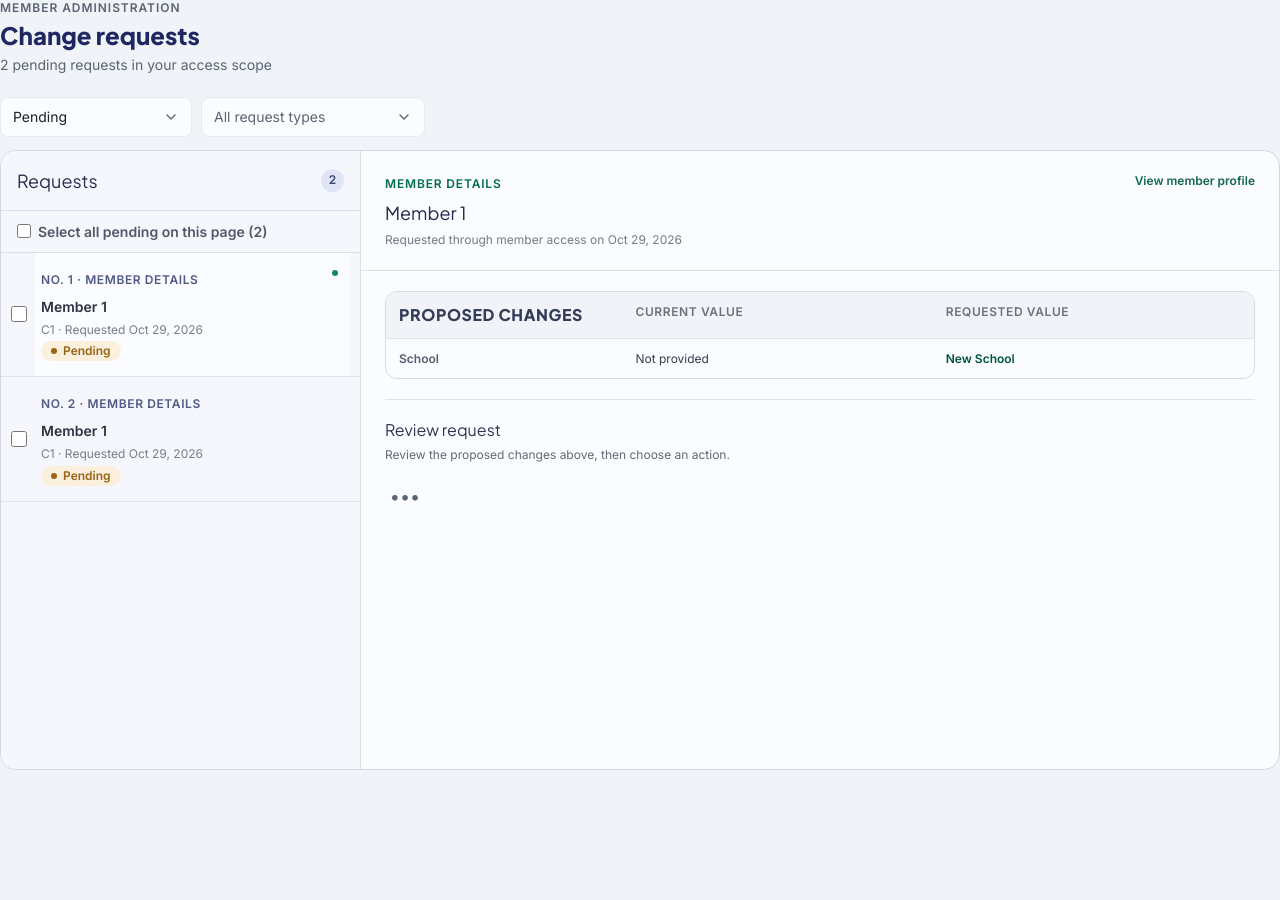
it: reports partial bulk failures without losing the result after list refresh
Expected: the button named "Actions for request 42" is shown, [385, 477, 425, 517]
Click the checkbox labelled "Select all pending on this page (2)" at (24, 231), box [17, 224, 31, 238]
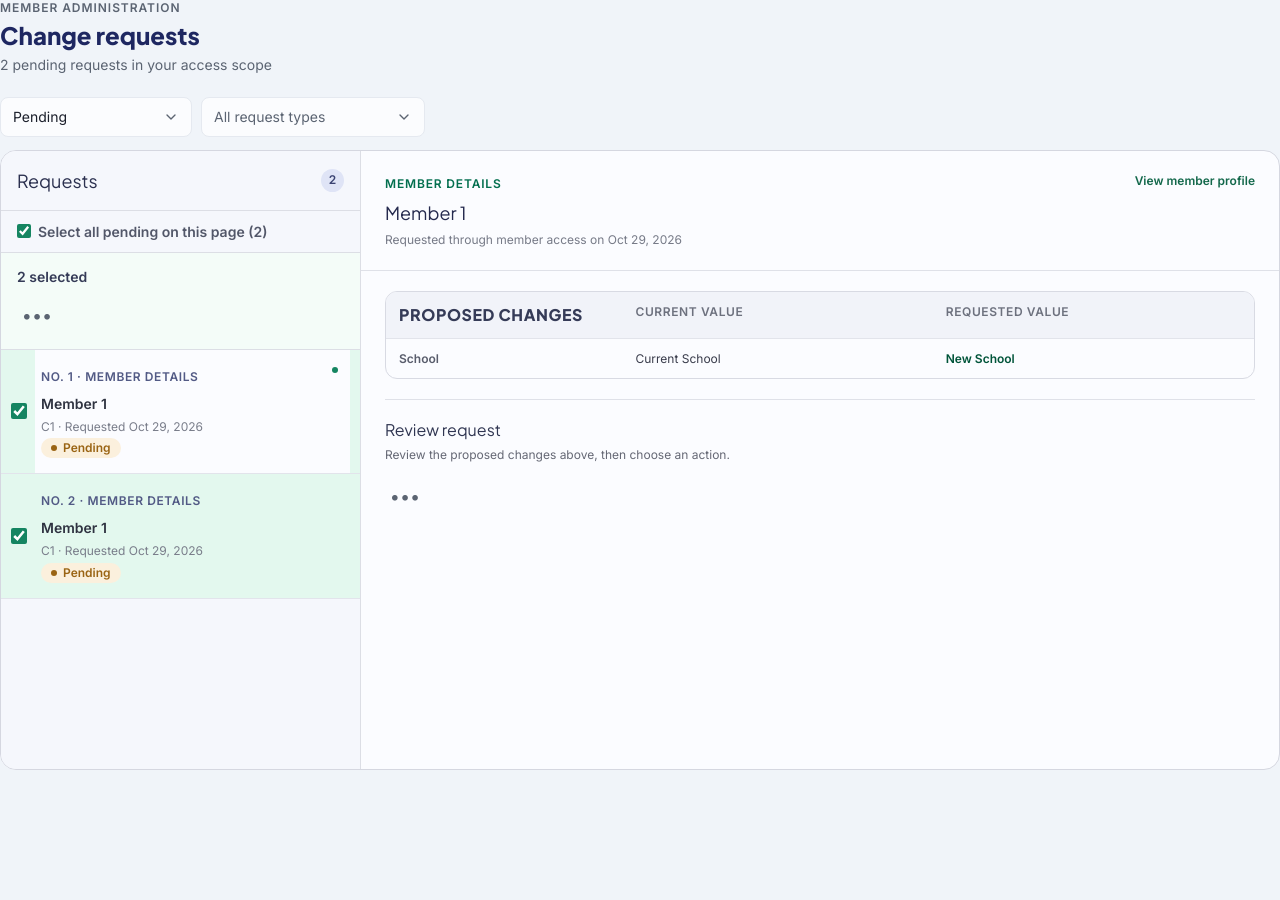
Click the button named "Actions for selected requests" at (37, 316), box [17, 296, 57, 336]
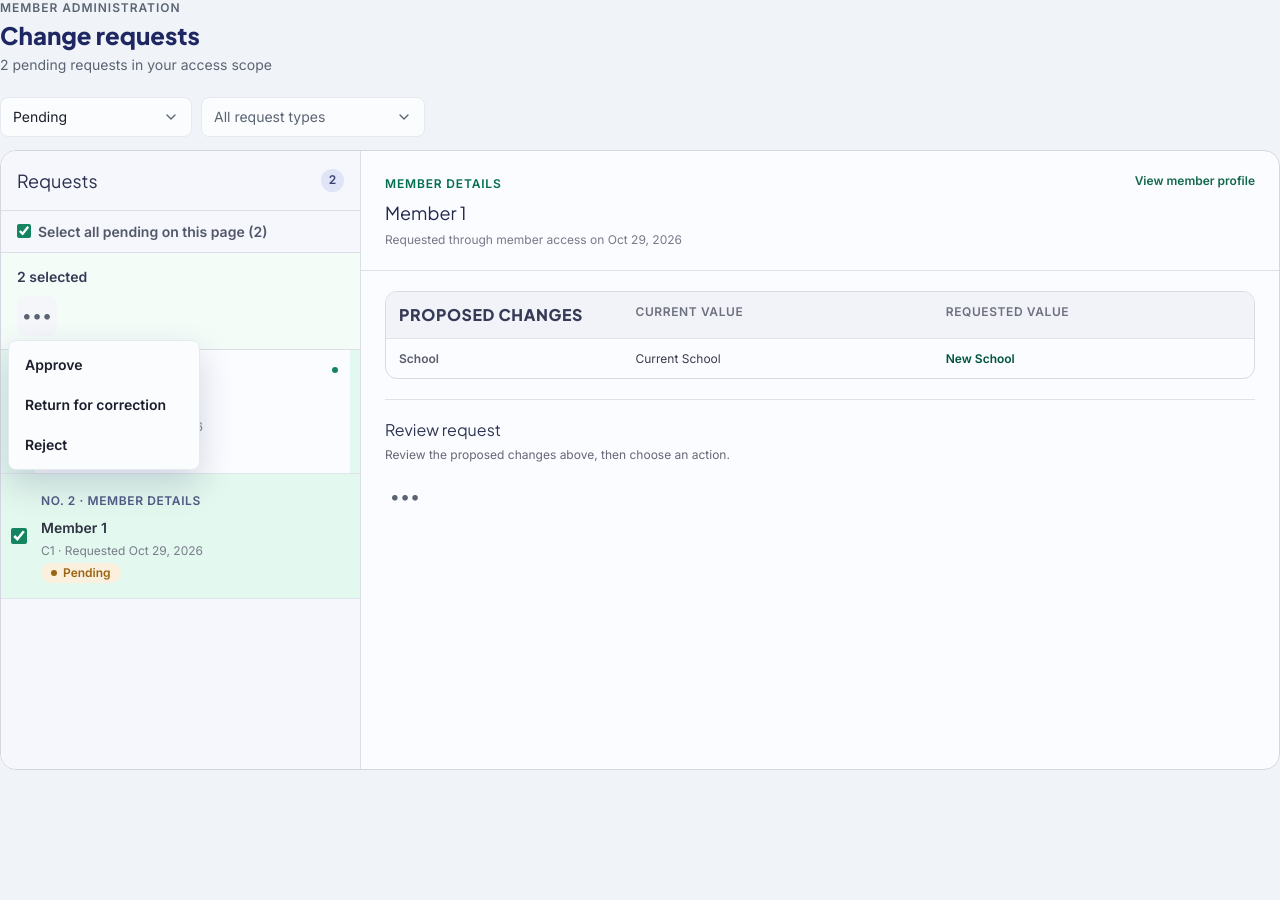
Click the menu item "Approve" at (104, 365), box [13, 345, 195, 385]
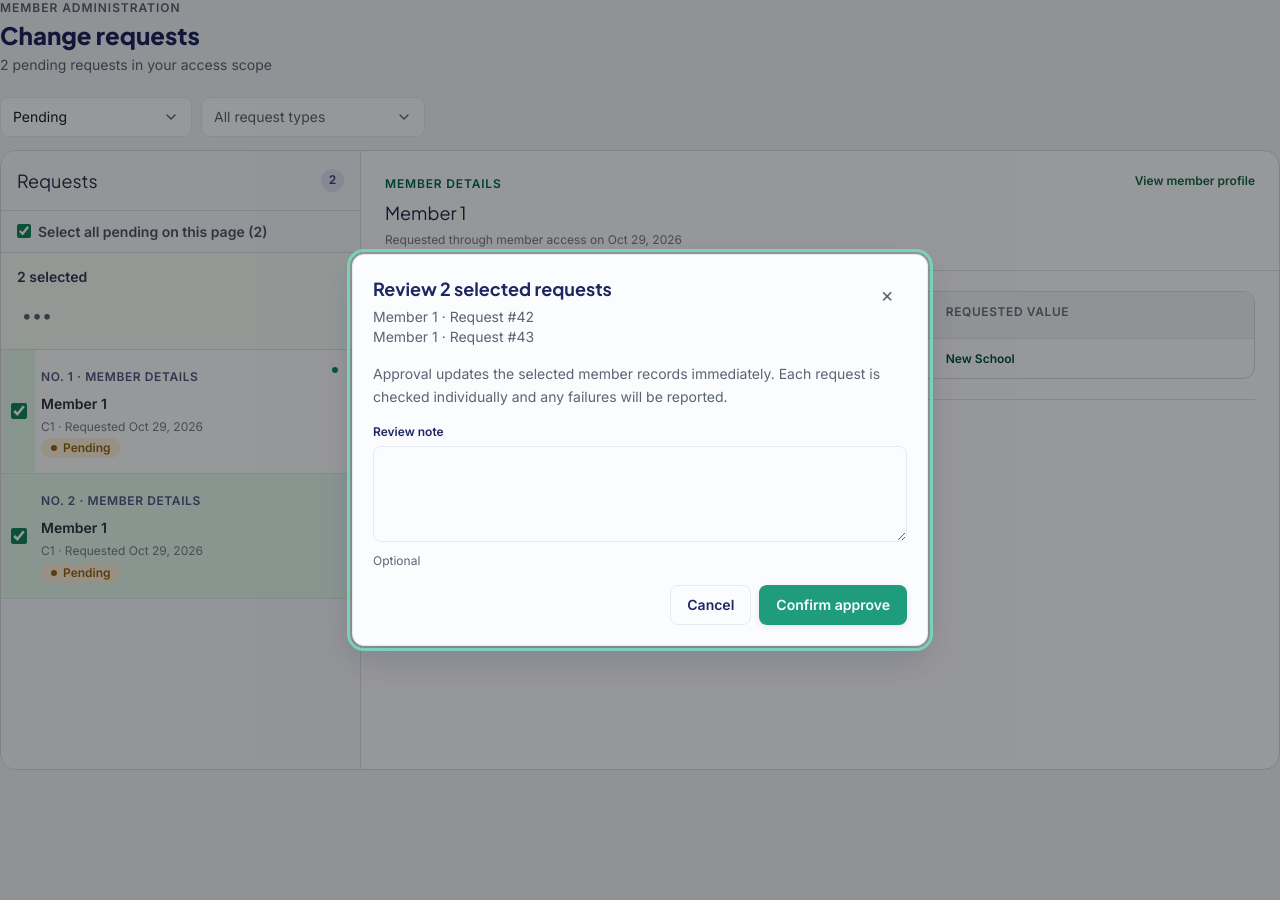
Click the button "Confirm approve" at (833, 605), box [759, 585, 907, 625]
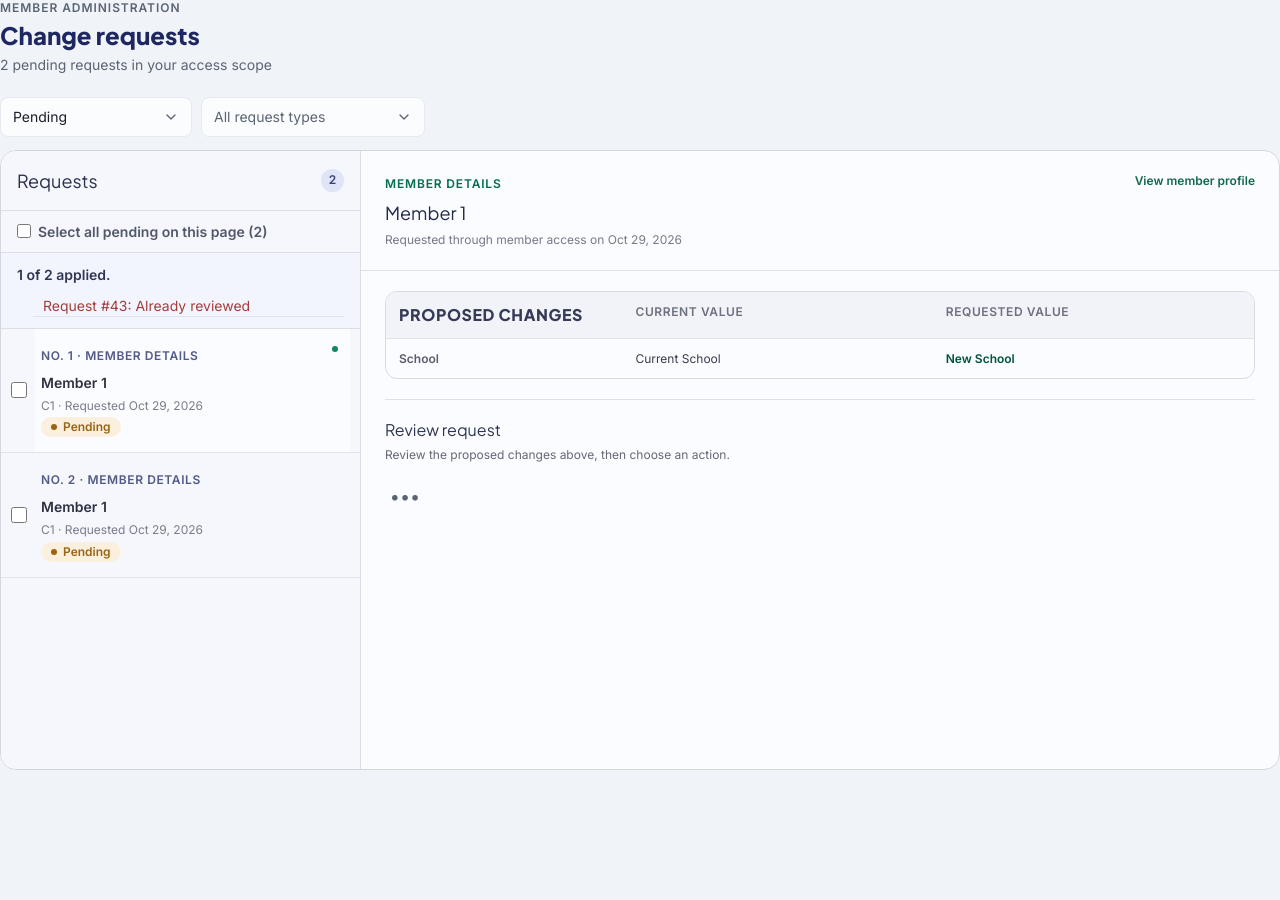
Result: the text "1 of 2 applied." is shown at [17, 266, 110, 283]
Result: the list item "Request #43: Already reviewed" is shown at [33, 295, 344, 317]
